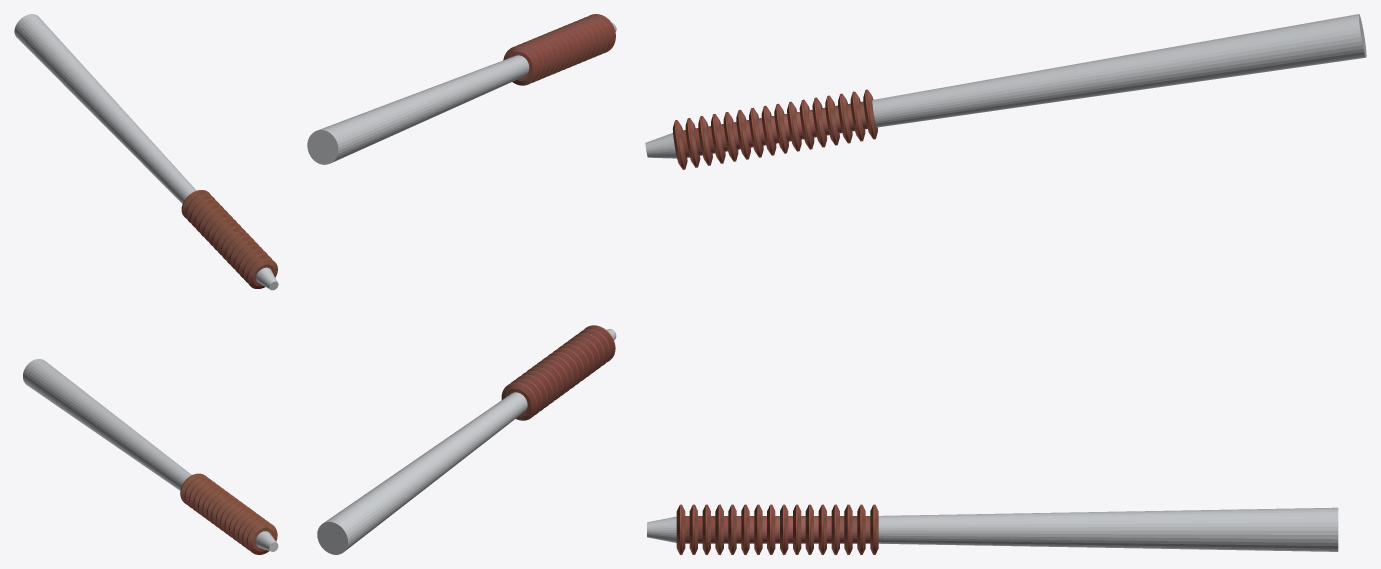
File: catenary_end_10.obj
The picture shows the model from 3 angles, left to right: view 1: azimuth 30°, elevation 25°; view 2: azimuth 150°, elevation 25°; view 3: azimuth 270°, elevation 25°; orthographic projection. The views are drawn at different scales.
Visible parts, largest first — view 1: insulators.001, insulators.002; view 2: insulators.002, insulators.001; view 3: insulators.001, insulators.002.
Boxes of the visible parts, x1,y1,x2,y2 form: insulators.001: (14,14,278,290); insulators.002: (23,359,278,554); insulators.002: (317,325,616,554); insulators.001: (307,14,616,164); insulators.001: (645,14,1366,169); insulators.002: (647,504,1338,554).
Bounding box in the file's own units: 0.1451 × 1.71 × 2.08.
8 materials, 8 textured.
